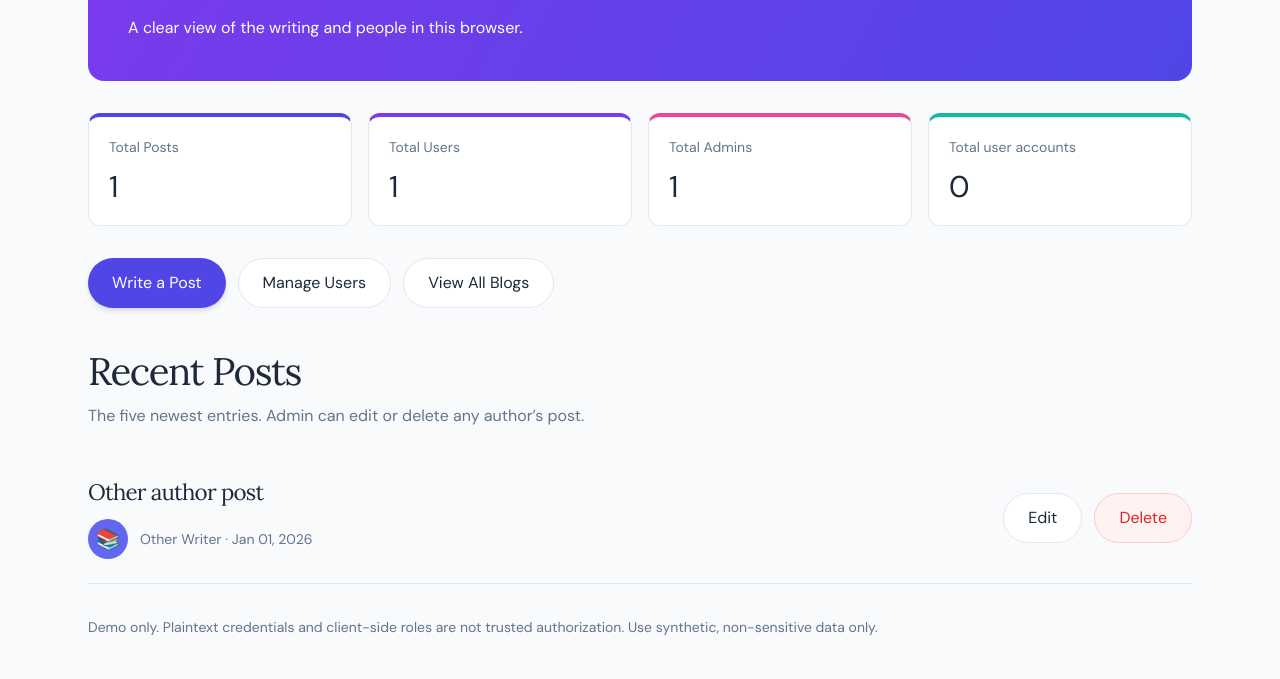
Test: checks latest access and cancels ordinary edit activation for a missing target
The image size is (1280, 679).
(page scrolled)
Click the link "Edit" at (1043, 518), box [1003, 493, 1082, 543]
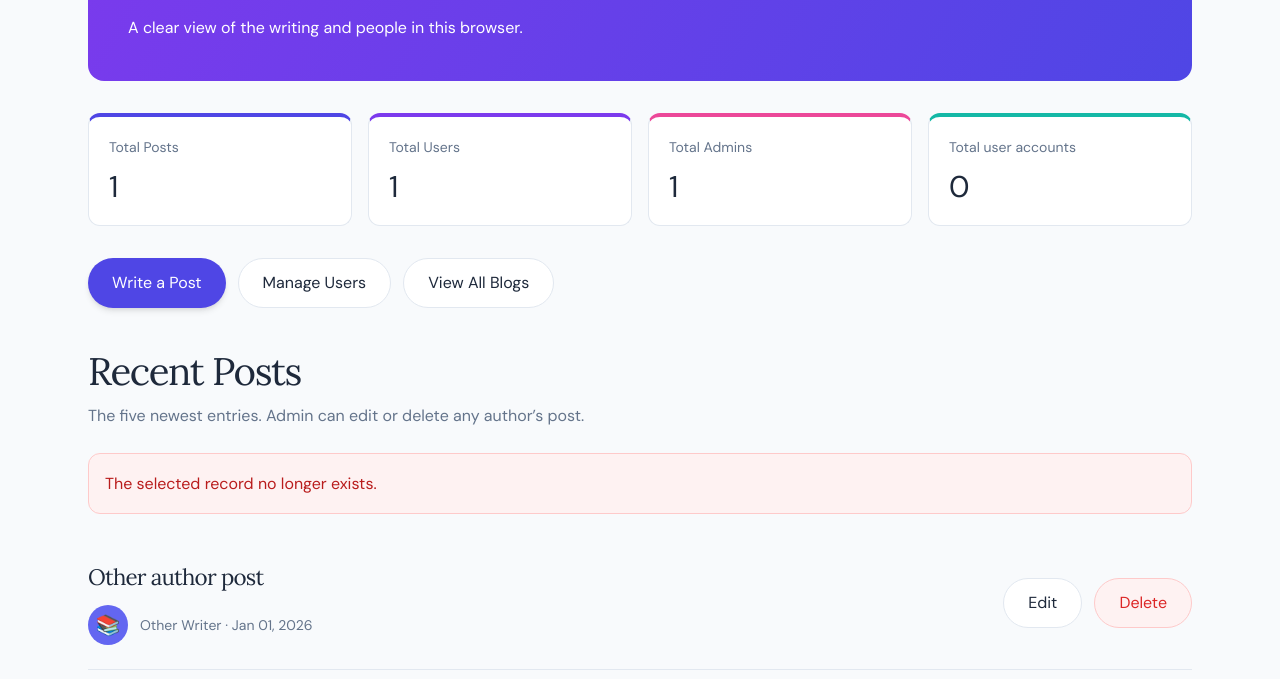
Expected: the message shows "no longer exists", [105, 473, 377, 494]
